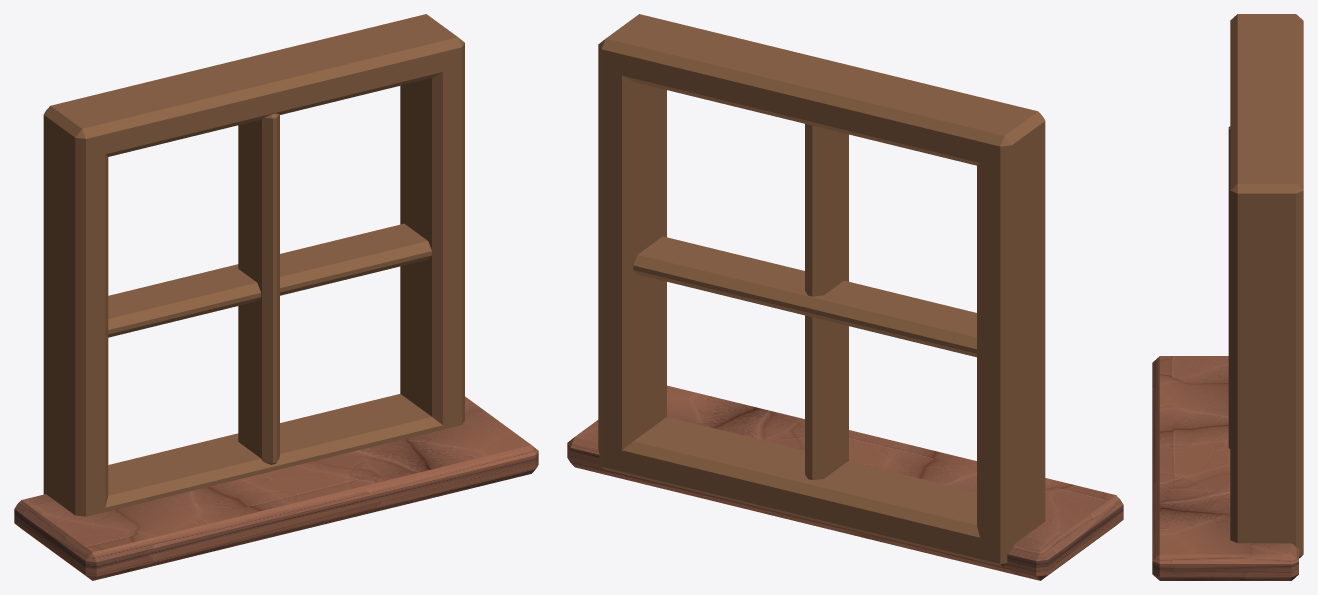
Rendered from Window_Frame.glb.
3 views of the same model, side by side, from view 1: azimuth 30°, elevation 25°; view 2: azimuth 150°, elevation 25°; view 3: azimuth 270°, elevation 25° (orthographic). The views are drawn at different scales.
Visible parts, largest first — view 1: Window_Frame__立方体.006, Window_Frame__立方体.003, Window_Frame__立方体, Window_Frame__立方体.001, Window_Frame__立方体.002, Window_Frame__立方体.004, Window_Frame__立方体.005; view 2: Window_Frame__立方体.003, Window_Frame__立方体, Window_Frame__立方体.001, Window_Frame__立方体.002, Window_Frame__立方体.006, Window_Frame__立方体.005, Window_Frame__立方体.004; view 3: Window_Frame__立方体.001, Window_Frame__立方体.006, Window_Frame__立方体.003, Window_Frame__立方体.004, Window_Frame__立方体.002.
Part boxes in pixels (left/top/right/bottom): Window_Frame__立方体.006: left=14, top=396, right=538, bottom=580; Window_Frame__立方体.003: left=43, top=14, right=464, bottom=158; Window_Frame__立方体: left=43, top=121, right=108, bottom=515; Window_Frame__立方体.001: left=400, top=63, right=464, bottom=429; Window_Frame__立方体.002: left=43, top=394, right=464, bottom=516; Window_Frame__立方体.004: left=238, top=113, right=279, bottom=464; Window_Frame__立方体.005: left=108, top=223, right=431, bottom=337; Window_Frame__立方体.003: left=598, top=14, right=1045, bottom=167; Window_Frame__立方体: left=977, top=127, right=1045, bottom=557; Window_Frame__立方体.001: left=598, top=51, right=666, bottom=464; Window_Frame__立方体.002: left=598, top=417, right=1045, bottom=566; Window_Frame__立方体.006: left=567, top=385, right=1123, bottom=580; Window_Frame__立方体.005: left=633, top=236, right=976, bottom=357; Window_Frame__立方体.004: left=805, top=124, right=848, bottom=479; Window_Frame__立方体.001: left=1230, top=196, right=1303, bottom=551; Window_Frame__立方体.006: left=1152, top=356, right=1298, bottom=580; Window_Frame__立方体.003: left=1230, top=14, right=1303, bottom=212; Window_Frame__立方体.004: left=1228, top=126, right=1230, bottom=448; Window_Frame__立方体.002: left=1230, top=536, right=1303, bottom=558.
Size of the model in its own units: 1.65 by 1.44 by 0.515.
2 materials, 1 textured.
